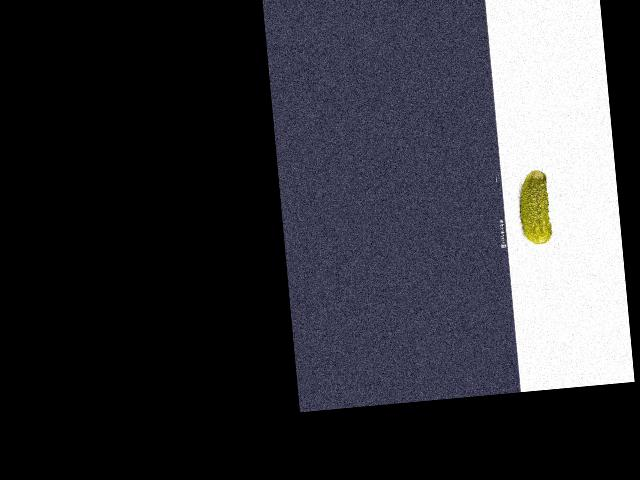cucumber: (516, 168, 552, 245)
